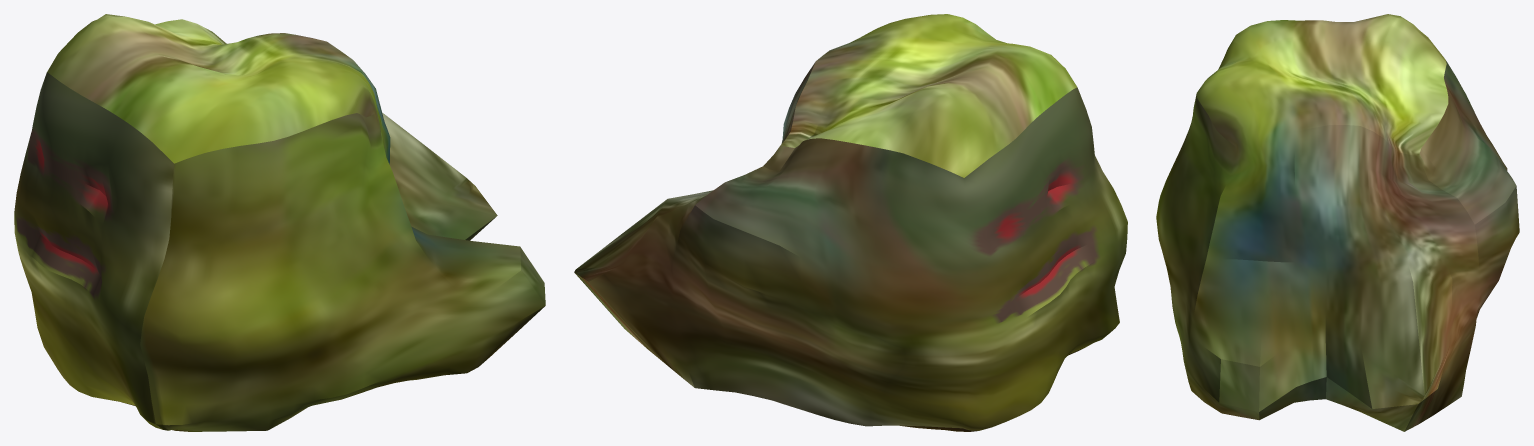
File: green blorb.fbx
3 renders of one model, left to right at view 1: azimuth 30°, elevation 25°; view 2: azimuth 150°, elevation 25°; view 3: azimuth 270°, elevation 25°, orthographic. The views are drawn at different scales.
Parts seen in each view (by area): view 1: Cube; view 2: Cube; view 3: Cube.
Part boxes in pixels (<box>): Cube: <box>14,14,545,431</box>; Cube: <box>574,14,1127,431</box>; Cube: <box>1156,14,1519,431</box>.
Size of the model in its own units: 340 by 239 by 271.
1 material, 1 textured.
